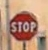stop: (8, 9, 37, 41)
